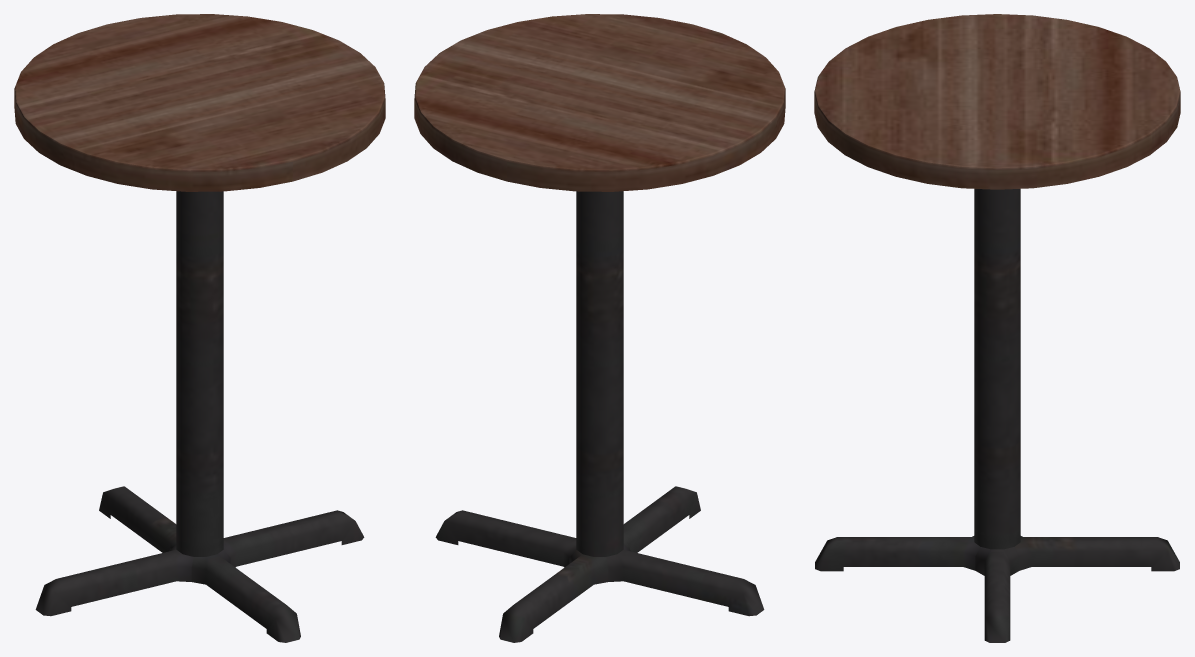
Rendered from table.glb.
3 renders of one model, left to right at view 1: azimuth 30°, elevation 25°; view 2: azimuth 150°, elevation 25°; view 3: azimuth 270°, elevation 25°, orthographic.
Visible parts, largest first — view 1: table_hightop; view 2: table_hightop; view 3: table_hightop.
Boxes of the visible parts, box(x1,y1,x2,y2) form: table_hightop: box(14, 14, 385, 642); table_hightop: box(414, 14, 785, 642); table_hightop: box(814, 14, 1180, 642).
Bounding box in the file's own units: 0.762 × 1.09 × 0.762.
Materials: 1 (1 with a texture image).
